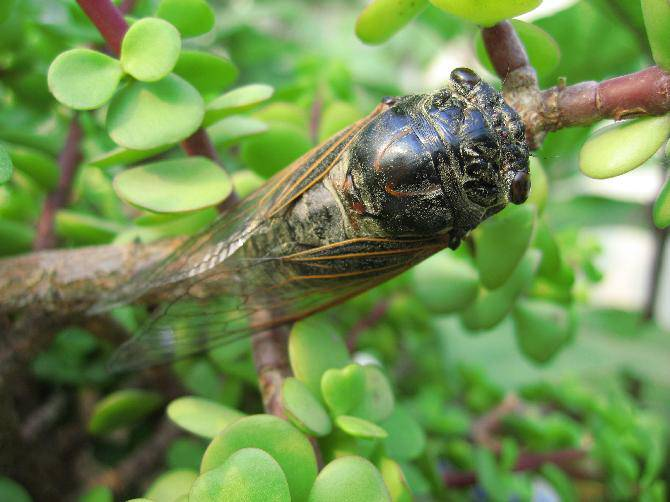chan: (108, 71, 537, 340)
